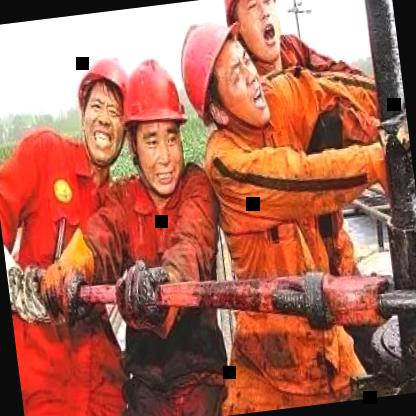helmet: (169, 4, 264, 138), (102, 54, 188, 188), (64, 42, 135, 164), (214, 0, 294, 74)
